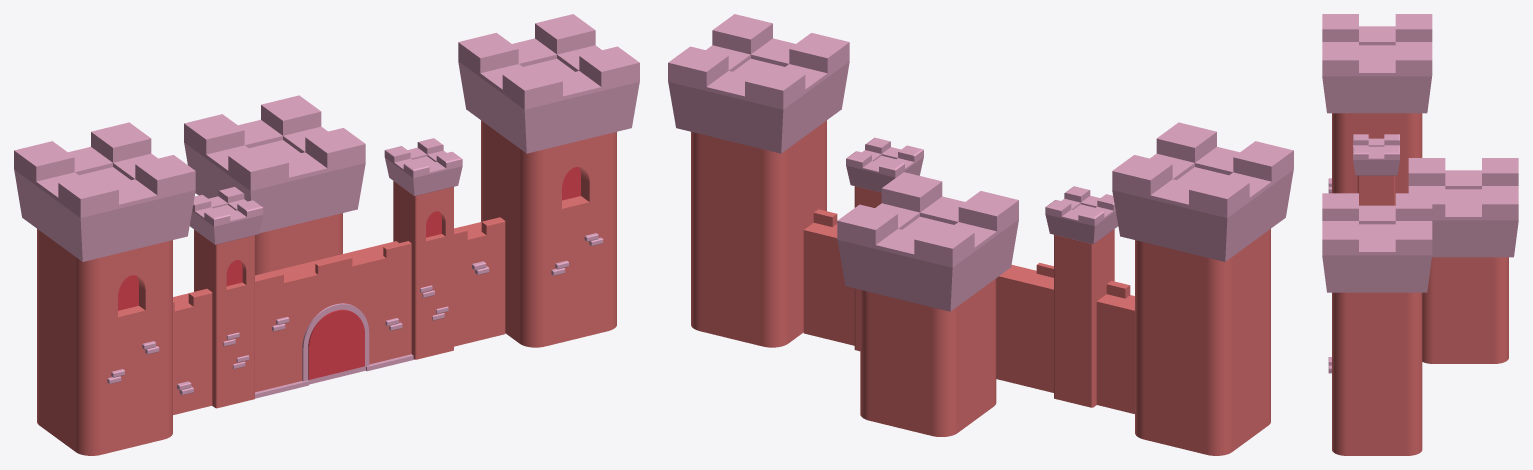
Rendered from Castle.fbx.
3 views of the same model, side by side, from view 1: azimuth 30°, elevation 25°; view 2: azimuth 150°, elevation 25°; view 3: azimuth 270°, elevation 25° (orthographic). The views are drawn at different scales.
Parts seen in each view (by area): view 1: Cube.023, Cube.030, Cube.022, Cube.031, Cube.021, Cube.015, Cube, Cube.012, Cube.014, Cube.013, Cube.020, Cube.034 (+4 smaller); view 2: Cube.023, Cube.030, Cube.021, Cube.022, Cube.031, Cube.020, Cube, Cube.015, Cube.014, Cube.013, Cube.001, Cube.011 (+1 smaller); view 3: Cube.030, Cube.031, Cube.022, Cube.021, Cube.020, Cube.023, Cube.001, Cube.
Boxes of the visible parts, x1,y1,x2,y2 form: Cube.023: [37, 229, 172, 455]; Cube.030: [481, 120, 616, 347]; Cube.022: [14, 122, 195, 261]; Cube.031: [458, 14, 639, 153]; Cube.021: [184, 95, 365, 233]; Cube.015: [255, 241, 411, 392]; Cube: [194, 229, 254, 408]; Cube.012: [393, 181, 453, 359]; Cube.014: [454, 217, 505, 346]; Cube.013: [173, 288, 212, 414]; Cube.020: [255, 213, 342, 275]; Cube.034: [308, 309, 364, 379]; Cube.023: [1135, 229, 1270, 455]; Cube.030: [691, 120, 826, 347]; Cube.021: [837, 172, 1018, 311]; Cube.022: [1112, 122, 1293, 261]; Cube.031: [668, 14, 849, 153]; Cube.020: [860, 278, 996, 436]; Cube: [1054, 229, 1114, 407]; Cube.015: [996, 262, 1053, 392]; Cube.014: [803, 209, 854, 345]; Cube.013: [1096, 280, 1134, 413]; Cube.001: [1045, 186, 1118, 244]; Cube.011: [846, 137, 923, 192]; Cube.030: [1332, 292, 1422, 455]; Cube.031: [1322, 193, 1432, 292]; Cube.022: [1322, 14, 1432, 113]; Cube.021: [1408, 158, 1518, 257]; Cube.020: [1422, 257, 1508, 363]; Cube.023: [1332, 113, 1422, 205]; Cube.001: [1353, 134, 1399, 175]; Cube: [1357, 175, 1395, 205].
Bounding box in the file's own units: 5659 × 2577 × 2084.
